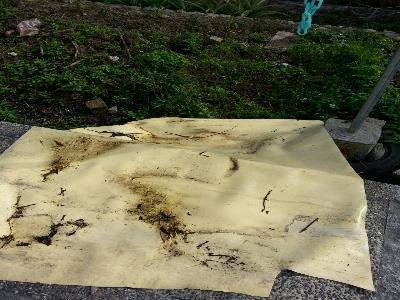plastic_bag: (1, 114, 372, 299)
